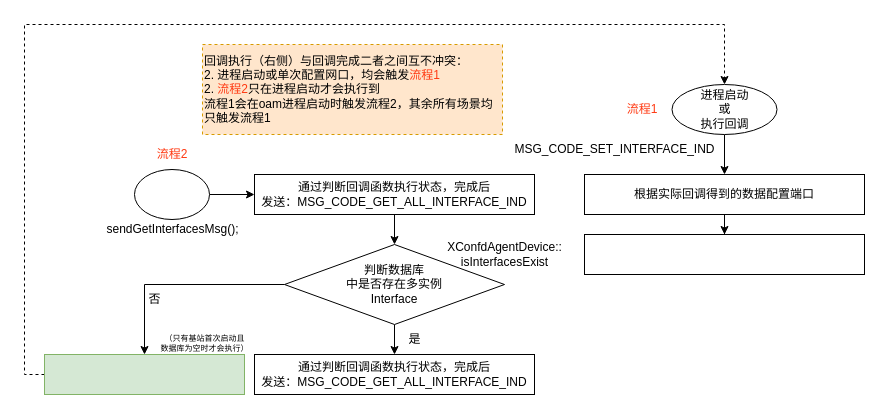
Image size: 882x412. Some labels were removed from this diagram. The centre of each missing label's shape, as x and y in pixels:
"同时可能存在向CU的DPDK配置MO同步参数的可能" belongs at (724,254).
"获取全部本地接口后，回写至数据库" belongs at (144,374).
"进程启动 回调函数 执行完成" belongs at (172,194).
